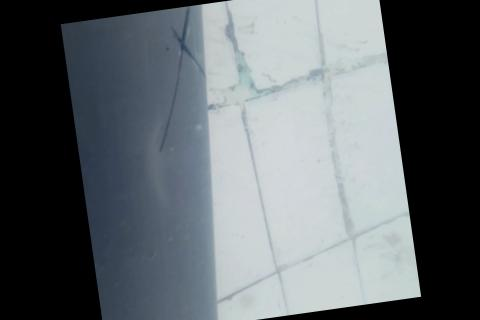keretakan: (135, 4, 218, 155)
